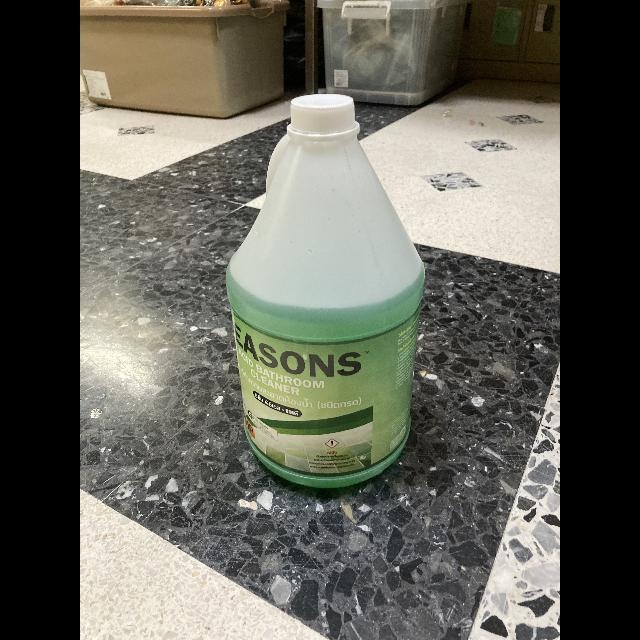chemical_plastic_gallon: (226, 88, 422, 488)
